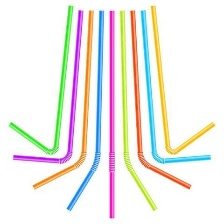drinking_straw: (5, 2, 78, 158), (147, 3, 220, 159), (117, 9, 160, 215), (63, 7, 104, 215), (106, 9, 119, 221)
